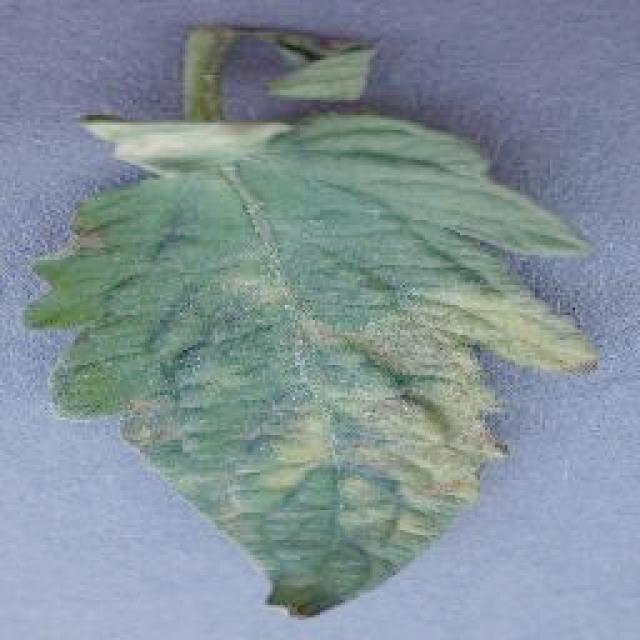Tomato mold leaf: (21, 113, 596, 625)
